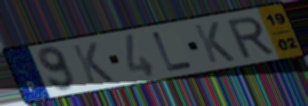4: (125, 32, 157, 79)
9: (38, 45, 79, 95)
K: (192, 20, 238, 65), (70, 41, 117, 85)
L: (150, 30, 196, 73)
R: (224, 14, 276, 61)
